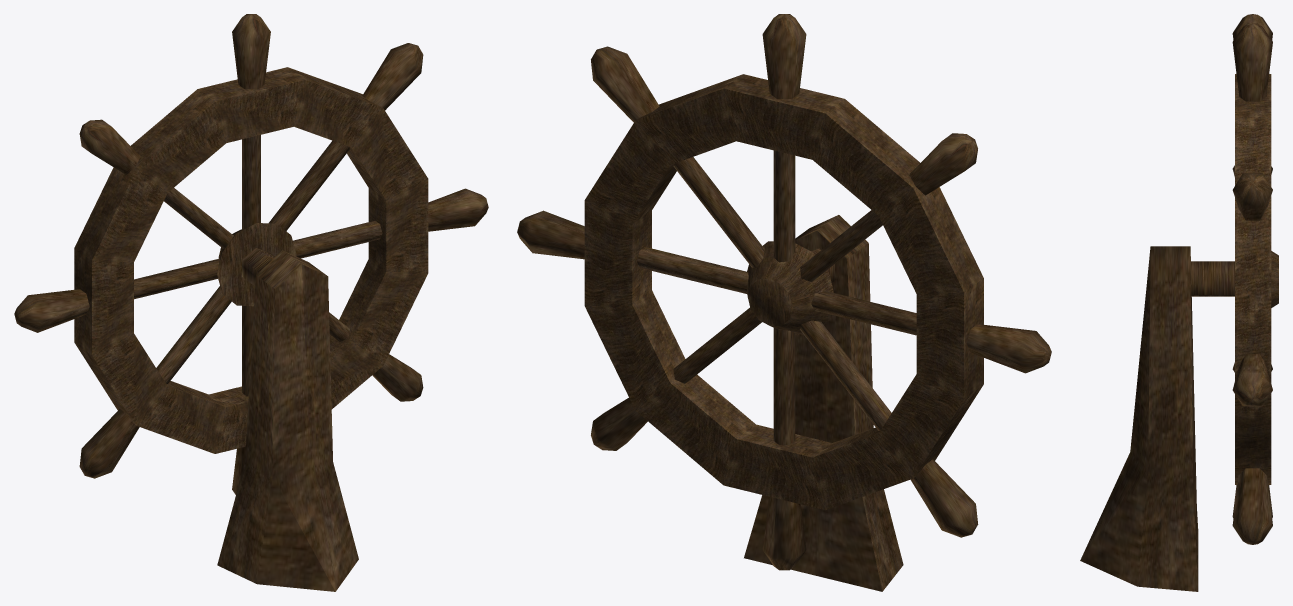
The model's file is pir_m_shp_prt_wheel.fbx.
3 views of the same model, side by side, from view 1: azimuth 30°, elevation 25°; view 2: azimuth 150°, elevation 25°; view 3: azimuth 270°, elevation 25° (orthographic). The views are drawn at different scales.
Visible parts, largest first — view 1: rim_outer, wheelbase, spoke_3, spoke_2, spoke_0, spoke_1, rim_inner, Mount; view 2: rim_outer, wheelbase, spoke_3, spoke_0, spoke_2, spoke_1, rim_inner; view 3: wheelbase, rim_outer, spoke_1, spoke_0, spoke_2, Mount, spoke_3, rim_inner.
Part boxes in pixels (box(x1,y1,x2,y2)): rim_outer: box(74, 67, 428, 453); wheelbase: box(217, 250, 358, 591); spoke_3: box(79, 43, 423, 478); spoke_2: box(14, 188, 488, 332); spoke_0: box(232, 14, 270, 494); spoke_1: box(79, 119, 423, 401); rim_inner: box(217, 223, 296, 306); Mount: box(242, 248, 274, 286); rim_outer: box(584, 74, 983, 510); wheelbase: box(744, 215, 903, 591); spoke_3: box(591, 46, 978, 537); spoke_0: box(762, 14, 806, 570); spoke_2: box(517, 210, 1051, 373); spoke_1: box(591, 133, 977, 450); rim_inner: box(746, 241, 833, 334); wheelbase: box(1080, 246, 1198, 591); rim_outer: box(1235, 74, 1271, 484); spoke_1: box(1232, 14, 1272, 544); spoke_0: box(1232, 23, 1272, 517); spoke_2: box(1232, 165, 1272, 406); Mount: box(1191, 261, 1234, 296); spoke_3: box(1232, 173, 1272, 372); rim_inner: box(1271, 251, 1278, 307).
Bounding box in the file's own units: 526 × 551 × 185.
1 material, 1 textured.
